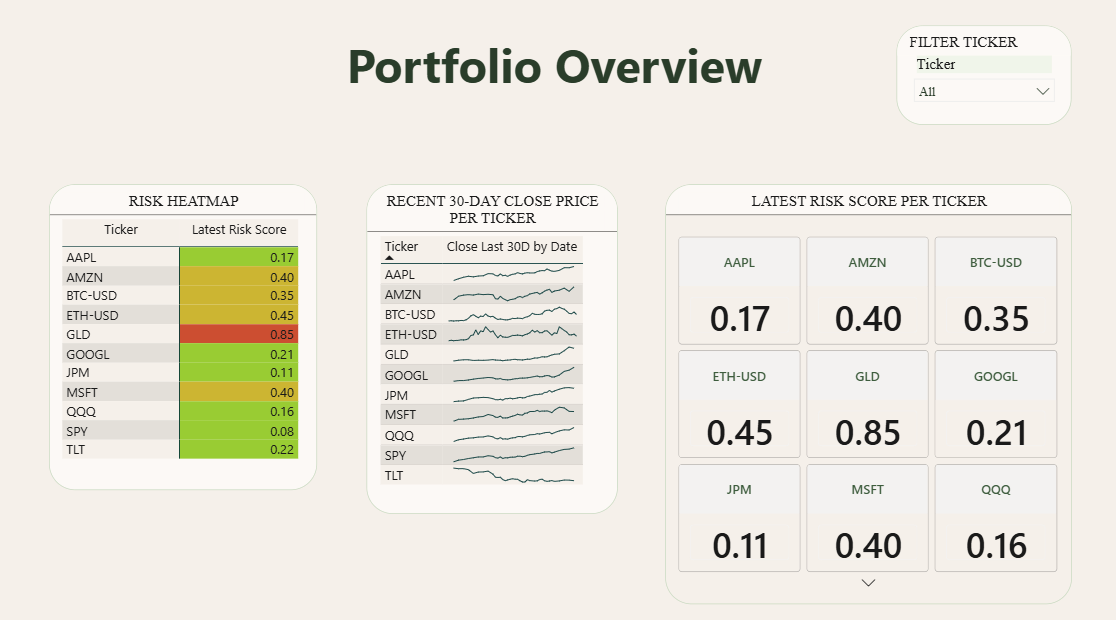

This screenshot's page, from the dashboard's own definition file:
{"tool":"powerbi","page":{"name":"Portfolio Explorer","canvas":[1280,720],"ordinal":0},"visuals":[{"type":"pivotTable","title":"RISK HEATMAP","fields":{"Rows":["risk_scores.ticker"],"Values":["risk_scores.Latest Risk Score"]},"box":[57.7,213.5,306.8,349.7],"z":0},{"type":"tableEx","title":"RECENT 30-DAY CLOSE PRICE PER TICKER","fields":{"Values":["risk_scores.ticker","SparklineData(raw_prices.Close Last 30D_[DateTable.Date])"]},"box":[419.6,213.5,287.1,376.7],"z":1000},{"type":"slicer","title":"FILTER TICKER","fields":{"Values":["risk_scores.ticker"]},"box":[1025.6,31,200.3,113.9],"z":2000},{"type":"cardVisual","title":"LATEST RISK SCORE PER TICKER","fields":{"Rows":["risk_scores.ticker"],"Data":["risk_scores.Latest Risk Score"]},"box":[760.7,213.5,465,479.8],"z":3000},{"type":"textbox","box":[331.3,34.3,606.5,93.3],"z":4000}]}

Visuals, with their boxes in screenshot pixels (x1, y1, x2, y2), scaled from the page's 1280x720 canvas onto the 1116x620 screenshot:
"RISK HEATMAP" pivotTable: 50,184,318,485
"RECENT 30-DAY CLOSE PRICE PER TICKER" tableEx: 366,184,616,508
"FILTER TICKER" slicer: 894,27,1069,125
"LATEST RISK SCORE PER TICKER" cardVisual: 663,184,1069,597
textbox: 289,30,818,110
